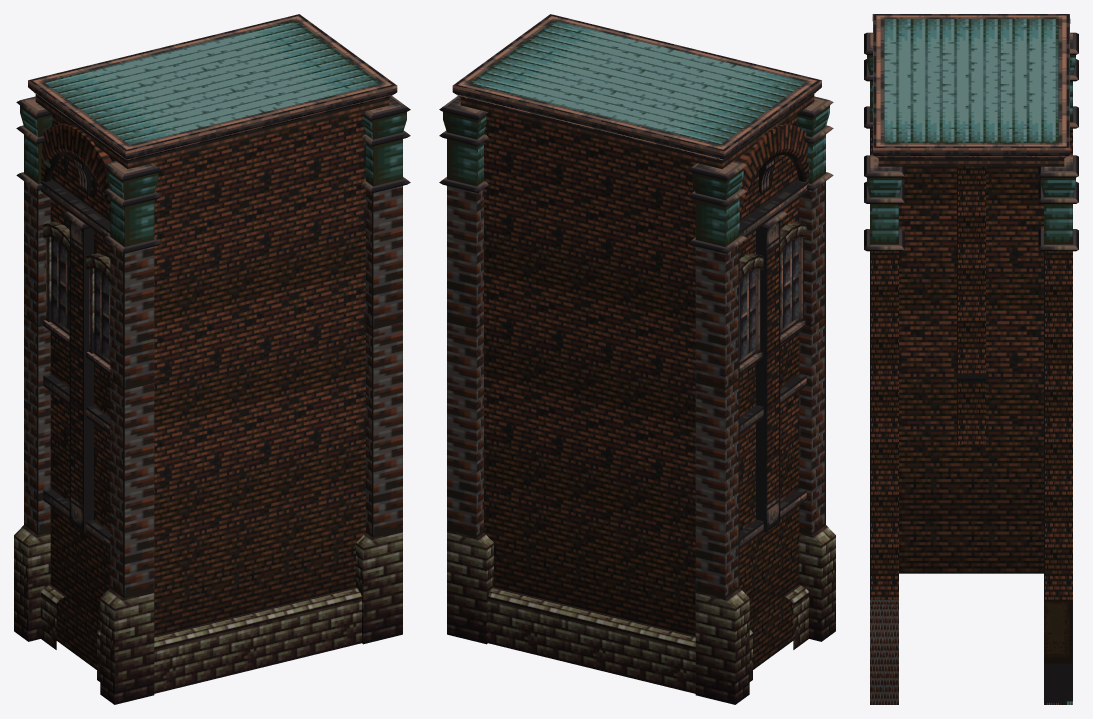
Rendered from EnvBdgMD_Factory_B_Outdoor_Tower_B.FBX.
3 views of the same model, side by side, from view 1: azimuth 30°, elevation 25°; view 2: azimuth 150°, elevation 25°; view 3: azimuth 270°, elevation 25° (orthographic).
Visible parts, largest first — view 1: EnvBdgMD_Factory_B_Outdoor_Tower_B; view 2: EnvBdgMD_Factory_B_Outdoor_Tower_B; view 3: EnvBdgMD_Factory_B_Outdoor_Tower_B.
Boxes of the visible parts, x1=… form: EnvBdgMD_Factory_B_Outdoor_Tower_B: x1=14, y1=14, x2=410, y2=704; EnvBdgMD_Factory_B_Outdoor_Tower_B: x1=439, y1=14, x2=835, y2=704; EnvBdgMD_Factory_B_Outdoor_Tower_B: x1=864, y1=14, x2=1078, y2=704.
Size of the model in its own units: 590 by 1055 by 370.
